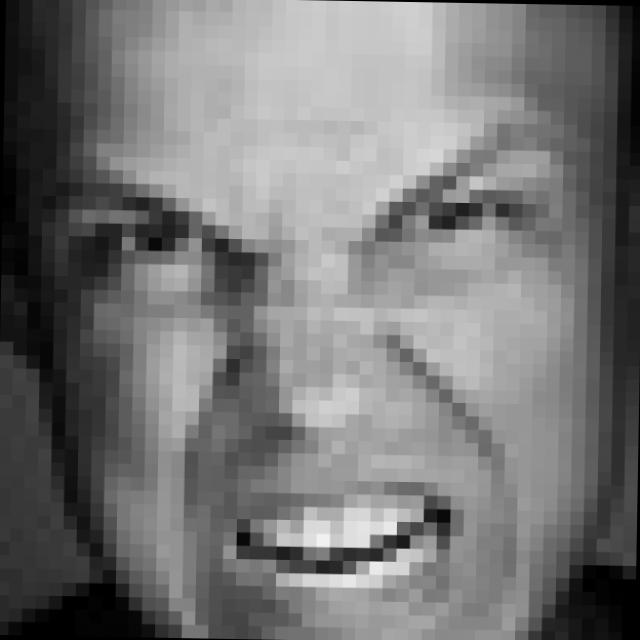angry: (41, 115, 562, 620)
